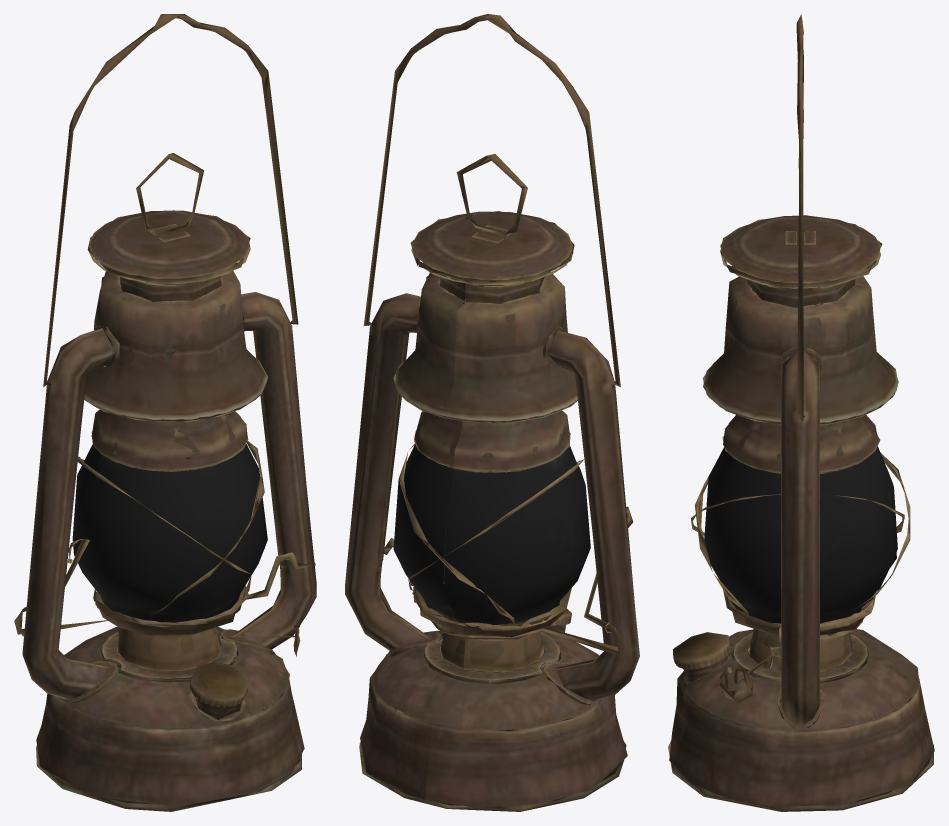
The model's file is ph_Lantern_01.glb.
3 views of the same model, side by side, from view 1: azimuth 30°, elevation 25°; view 2: azimuth 150°, elevation 25°; view 3: azimuth 270°, elevation 25° (orthographic).
Visible parts, largest first — view 1: Lantern_01; view 2: Lantern_01; view 3: Lantern_01.
Boxes of the visible parts, bbox=[...] form: Lantern_01: bbox=[14, 14, 316, 811]; Lantern_01: bbox=[345, 14, 639, 811]; Lantern_01: bbox=[668, 14, 934, 811].
Bounding box in the file's own units: 0.1222 × 0.2943 × 0.0964.
2 materials, 2 textured.
